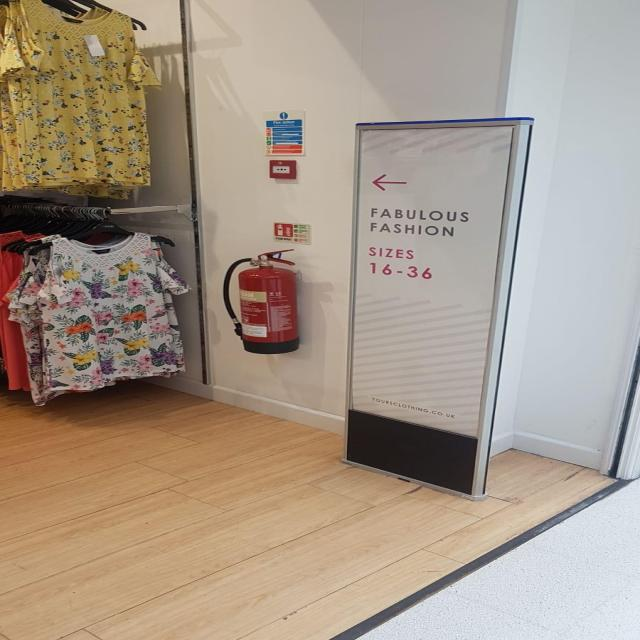fire_extinguisher: (219, 247, 306, 356)
